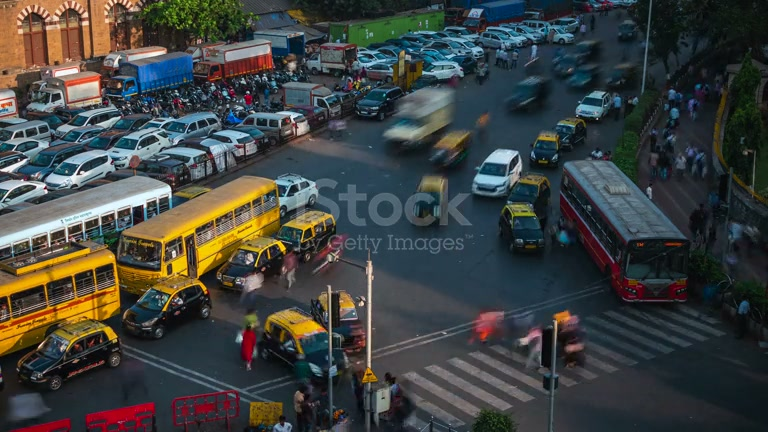bus: (114, 173, 281, 297), (557, 157, 691, 304), (0, 172, 172, 276), (1, 240, 120, 359), (102, 48, 194, 109), (24, 72, 103, 126), (189, 39, 275, 84), (275, 208, 337, 261)
car: (15, 317, 122, 391), (258, 307, 349, 382), (122, 275, 212, 340), (381, 85, 456, 154), (216, 235, 288, 290), (42, 150, 116, 191), (471, 148, 523, 198), (497, 202, 547, 254), (504, 172, 552, 225), (107, 131, 163, 170), (249, 109, 311, 140), (504, 75, 553, 113), (427, 129, 473, 169), (275, 172, 319, 213), (354, 85, 405, 120), (210, 128, 261, 161), (0, 179, 49, 213), (505, 173, 551, 207), (574, 90, 619, 122), (529, 131, 562, 168), (554, 116, 588, 149)
pedestrian: (240, 322, 258, 371), (282, 250, 298, 289), (272, 415, 293, 432)
